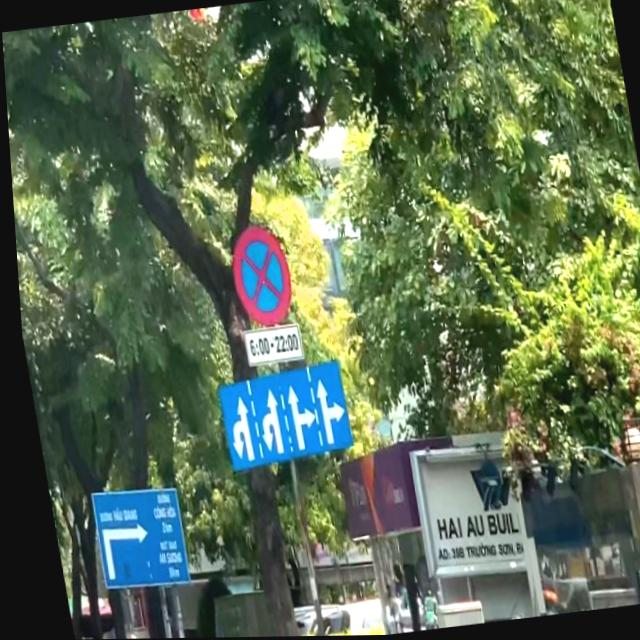Cam dung xe va do xe: (221, 223, 294, 329)
